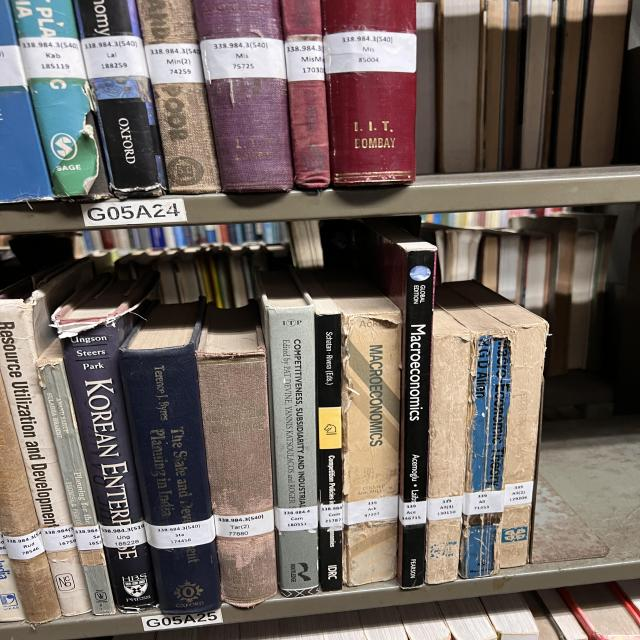Book: (52, 272, 158, 612), (0, 260, 92, 616), (120, 300, 222, 615), (448, 281, 548, 568), (315, 270, 402, 586), (363, 220, 437, 589), (197, 304, 277, 608), (38, 339, 117, 615), (258, 271, 318, 596), (300, 272, 343, 591), (425, 306, 472, 584), (460, 334, 512, 578), (438, 289, 505, 335)
Label: (145, 516, 215, 549), (213, 509, 273, 538), (345, 496, 398, 525), (100, 521, 147, 548), (273, 505, 318, 531), (463, 490, 505, 515), (40, 525, 77, 551), (427, 495, 463, 521), (73, 525, 103, 551), (503, 481, 533, 506), (398, 500, 427, 525), (318, 502, 343, 529), (638, 240, 640, 244)
